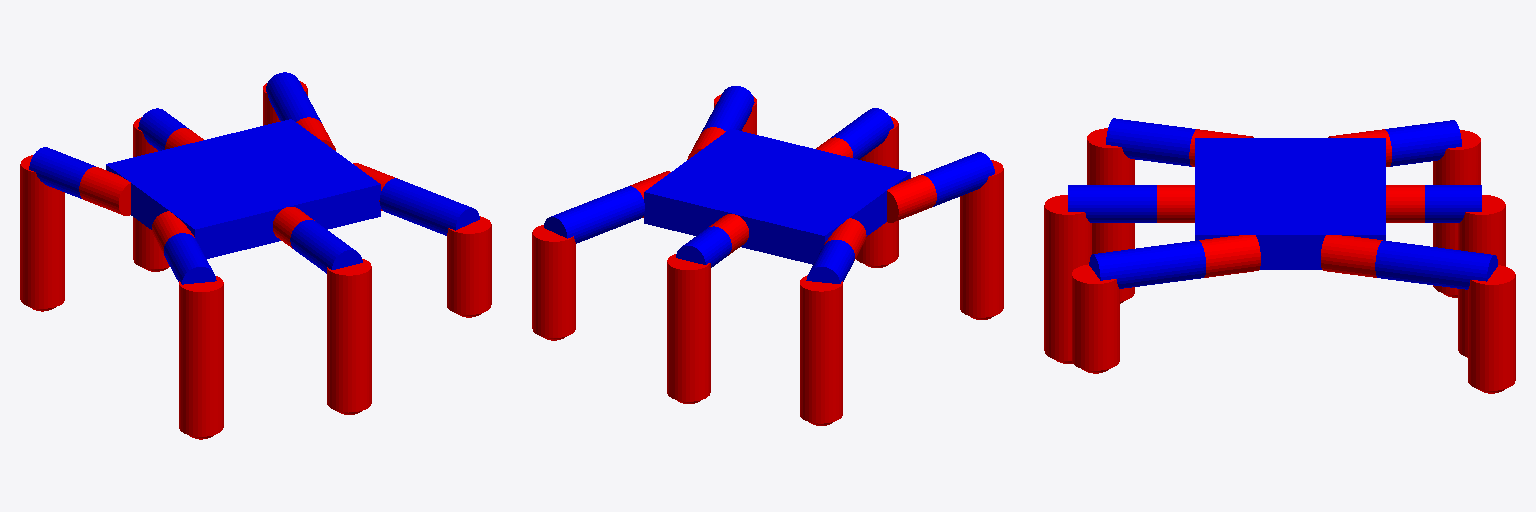
--- Facts derived from the render (not from the file) ---
The picture shows the robot from 3 angles, left to right: view 1: azimuth 30°, elevation 25°; view 2: azimuth 150°, elevation 25°; view 3: azimuth 270°, elevation 25°; orthographic projection.
Robot: pexod — 19 links, 18 joints (18 revolute); root link base_link; default pose: all joints at 0.
Links seen in each view (by area): view 1: base_link, leg_5_3, leg_4_3, leg_0_3, leg_3_3, leg_3_2, leg_4_2, leg_0_2, leg_0_1, leg_5_2, leg_2_2, leg_1_3 (+3 smaller); view 2: base_link, leg_1_3, leg_0_3, leg_5_3, leg_2_3, leg_2_2, leg_4_3, leg_5_2, leg_5_1, leg_4_2, leg_3_2, leg_0_2 (+3 smaller); view 3: base_link, leg_2_3, leg_4_3, leg_3_3, leg_2_2, leg_3_2, leg_5_3, leg_4_2, leg_1_3, leg_5_2, leg_0_3, leg_0_2 (+5 smaller).
Boxes of the visible links, left/top/right/bottom form: base_link: left=106, top=119, right=380, bottom=258; leg_5_3: left=179, top=276, right=223, bottom=439; leg_4_3: left=327, top=259, right=371, bottom=414; leg_0_3: left=20, top=155, right=64, bottom=311; leg_3_3: left=447, top=216, right=491, bottom=317; leg_3_2: left=380, top=178, right=479, bottom=235; leg_4_2: left=290, top=220, right=362, bottom=273; leg_0_2: left=29, top=147, right=95, bottom=198; leg_0_1: left=79, top=167, right=130, bottom=215; leg_5_2: left=164, top=233, right=216, bottom=284; leg_2_2: left=266, top=72, right=321, bottom=122; leg_1_3: left=133, top=117, right=169, bottom=271; base_link: left=644, top=129, right=910, bottom=264; leg_1_3: left=667, top=254, right=710, bottom=403; leg_0_3: left=800, top=275, right=842, bottom=425; leg_5_3: left=960, top=160, right=1003, bottom=319; leg_2_3: left=532, top=225, right=575, bottom=340; leg_2_2: left=544, top=186, right=644, bottom=243; leg_4_3: left=856, top=116, right=898, bottom=267; leg_5_2: left=921, top=152, right=994, bottom=206; leg_5_1: left=887, top=175, right=936, bottom=222; leg_4_2: left=831, top=108, right=893, bottom=159; leg_3_2: left=701, top=86, right=754, bottom=132; leg_0_2: left=806, top=240, right=854, bottom=283; base_link: left=1195, top=138, right=1385, bottom=269; leg_2_3: left=1468, top=265, right=1515, bottom=393; leg_4_3: left=1044, top=195, right=1091, bottom=363; leg_3_3: left=1072, top=264, right=1119, bottom=373; leg_2_2: left=1375, top=240, right=1497, bottom=289; leg_3_2: left=1089, top=240, right=1205, bottom=288; leg_5_3: left=1087, top=128, right=1134, bottom=303; leg_4_2: left=1068, top=185, right=1156, bottom=222; leg_1_3: left=1458, top=195, right=1505, bottom=357; leg_5_2: left=1106, top=118, right=1195, bottom=166; leg_0_3: left=1433, top=130, right=1480, bottom=297; leg_0_2: left=1385, top=120, right=1461, bottom=166.
Bounding box of the posed robot: 0.3883 × 0.4931 × 0.2109 m (x, y, z).
Geometry: primitives only (box / cylinder / sphere), no mesh files.

The robot description file, URDF, robot "pexod":
<?xml version="1.0" ?>
<!-- =================================================================================== -->
<!-- |    This document was autogenerated by xacro from pexod.xacro                    | -->
<!-- |    EDITING THIS FILE BY HAND IS NOT RECOMMENDED                                 | -->
<!-- =================================================================================== -->
<robot name="pexod" xmlns:xacro="http://www.ros.org/wiki/xacro">
  <!-- <xacro:include filename="$(find pexod_description)/urdf/pexod_control.xacro" /> -->
  <!-- MATERIALS -->
  <material name="Blue">
    <color rgba="0 0 1 1"/>
  </material>
  <material name="Red">
    <color rgba="1 0 0 1"/>
  </material>
  <material name="Green">
    <color rgba="0 1 0 1"/>
  </material>
  <material name="Yellow">
    <color rgba="1 1 0 1"/>
  </material>
  <material name="LightGrey">
    <color rgba="0.6 0.6 0.6 1.0"/>
  </material>
  <!-- END OF MATERIALS -->
  <!-- XACRO MACROS FOR VISUALS AND COLLISIONS -->
  <!-- END OF XACRO MACROS -->
  <!-- TORSO -->
  <link name="base_link">
    <visual>
      <origin rpy="0 0 0" xyz="0 0 0"/>
      <geometry>
        <box size="0.24 0.2 0.04"/>
      </geometry>
      <material name="Blue"/>
    </visual>
    <collision>
      <origin rpy="0 0 0" xyz="0 0 0"/>
      <geometry>
        <box size="0.24 0.2 0.04"/>
      </geometry>
    </collision>
    <inertial>
      <!-- CENTER OF MASS -->
      <origin rpy="0 0 0" xyz="0 0 0"/>
      <mass value="1.031"/>
      <!-- box inertia: 1/12*m(y^2+z^2), ... -->
      <inertia ixx="0.00357413333333" ixy="0" ixz="0" iyy="0.00508626666667" iyz="0" izz="0.00838546666667"/>
    </inertial>
  </link>
  <!-- XACRO MACRO FOR LEGS LINKS/JOINTS -->
  <!-- END OF LEG LINKS/JOINTS -->
  <joint name="body_leg_2" type="revolute">
    <parent link="base_link"/>
    <child link="leg_2_1"/>
    <limit effort="30.0" lower="-1.57079632679" upper="1.57079632679" velocity="7.0"/>
    <origin rpy="0 0 -0.3" xyz="0.11 0.04 0"/>
    <!-- <xacro:if value="${index == 5 or index == 4 or index == 3}">
                <axis xyz="0 0 1"/>
            </xacro:if>
            <xacro:if value="${index == 2 or index == 1 or index == 0}"> -->
    <axis xyz="0 0 1"/>
    <!-- </xacro:if> -->
    <dynamics damping="0.0"/>
  </joint>
  <link name="leg_2_1">
    <visual>
      <origin rpy="1.57079632679 0 0" xyz="0.01 0.03 0"/>
      <geometry>
        <cylinder length="0.06" radius="0.02"/>
      </geometry>
      <material name="Red"/>
    </visual>
    <collision>
      <origin rpy="1.57079632679 0 0" xyz="0.01 0.03 0"/>
      <geometry>
        <box size="0.02 0.02 0.06"/>
      </geometry>
    </collision>
    <inertial>
      <!-- CENTER OF MASS -->
      <origin rpy="1.57079632679 0 0" xyz="0.01 0.03 0"/>
      <mass value="0.02"/>
      <!-- box inertia: 1/12*m(y^2+z^2), ... -->
      <inertia ixx="6.66666666667e-06" ixy="0" ixz="0" iyy="6.66666666667e-06" iyz="0" izz="1.33333333333e-06"/>
    </inertial>
  </link>
  <joint name="leg_2_1_2" type="revolute">
    <parent link="leg_2_1"/>
    <child link="leg_2_2"/>
    <limit effort="30.0" lower="-0.78539816339" upper="0.78539816339" velocity="7.0"/>
    <origin rpy="0 0 0" xyz="0 0.06 0"/>
    <axis xyz="1 0 0"/>
    <dynamics damping="0.0"/>
  </joint>
  <link name="leg_2_2">
    <visual>
      <origin rpy="1.57079632679 0 0" xyz="0.01 0.061084963955 0"/>
      <geometry>
        <cylinder length="0.12216992791" radius="0.02"/>
      </geometry>
      <material name="Blue"/>
    </visual>
    <collision>
      <origin rpy="1.57079632679 0 0" xyz="0.01 0.061084963955 0"/>
      <geometry>
        <box size="0.02 0.02 0.12216992791"/>
      </geometry>
    </collision>
    <inertial>
      <!-- CENTER OF MASS -->
      <origin rpy="1.57079632679 0 0" xyz="0.01 0.061084963955 0"/>
      <mass value="0.184"/>
      <!-- box inertia: 1/12*m(y^2+z^2), ... -->
      <inertia ixx="0.000234990866378" ixy="0" ixz="0" iyy="0.000234990866378" iyz="0" izz="1.22666666667e-05"/>
    </inertial>
  </link>
  <joint name="leg_2_2_3" type="revolute">
    <parent link="leg_2_2"/>
    <child link="leg_2_3"/>
    <limit effort="30.0" lower="-0.78539816339" upper="0.78539816339" velocity="7.0"/>
    <origin rpy="-1.57079632679 0 0" xyz="0 0.12216992791 0"/>
    <axis xyz="-1 0 0"/>
    <dynamics damping="0.0"/>
  </joint>
  <link name="leg_2_3">
    <visual>
      <origin rpy="1.57079632679 0 0" xyz="0.0125 0.0611599524335 0"/>
      <geometry>
        <cylinder length="0.122319904867" radius="0.025"/>
      </geometry>
      <material name="Red"/>
    </visual>
    <visual>
      <origin rpy="1.57079632679 0 0" xyz="0.0125 0.109819904867 0"/>
      <geometry>
        <sphere radius="0.025"/>
      </geometry>
      <material name="Red"/>
    </visual>
    <collision>
      <origin rpy="1.57079632679 0 0" xyz="0.0125 0.0611599524335 0"/>
      <geometry>
        <box size="0.025 0.025 0.122319904867"/>
      </geometry>
    </collision>
    <collision>
      <origin rpy="1.57079632679 0 0" xyz="0.0125 0.109819904867 0"/>
      <geometry>
        <sphere radius="0.025"/>
      </geometry>
      <material name="Red"/>
    </collision>
    <inertial>
      <!-- CENTER OF MASS -->
      <origin rpy="1.57079632679 0 0" xyz="0.0125 0.0611599524335 0"/>
      <mass value="0.04"/>
      <!-- box inertia: 1/12*m(y^2+z^2), ... -->
      <inertia ixx="5.19571970889e-05" ixy="0" ixz="0" iyy="5.19571970889e-05" iyz="0" izz="4.16666666667e-06"/>
    </inertial>
  </link>
  <joint name="body_leg_3" type="revolute">
    <parent link="base_link"/>
    <child link="leg_3_1"/>
    <limit effort="30.0" lower="-1.57079632679" upper="1.57079632679" velocity="7.0"/>
    <origin rpy="0 0 0.3" xyz="0.11 -0.04 0"/>
    <!-- <xacro:if value="${index == 5 or index == 4 or index == 3}">
                <axis xyz="0 0 1"/>
            </xacro:if>
            <xacro:if value="${index == 2 or index == 1 or index == 0}"> -->
    <axis xyz="0 0 1"/>
    <!-- </xacro:if> -->
    <dynamics damping="0.0"/>
  </joint>
  <link name="leg_3_1">
    <visual>
      <origin rpy="1.57079632679 0 0" xyz="0.01 -0.03 0"/>
      <geometry>
        <cylinder length="0.06" radius="0.02"/>
      </geometry>
      <material name="Red"/>
    </visual>
    <collision>
      <origin rpy="1.57079632679 0 0" xyz="0.01 -0.03 0"/>
      <geometry>
        <box size="0.02 0.02 0.06"/>
      </geometry>
    </collision>
    <inertial>
      <!-- CENTER OF MASS -->
      <origin rpy="1.57079632679 0 0" xyz="0.01 -0.03 0"/>
      <mass value="0.02"/>
      <!-- box inertia: 1/12*m(y^2+z^2), ... -->
      <inertia ixx="6.66666666667e-06" ixy="0" ixz="0" iyy="6.66666666667e-06" iyz="0" izz="1.33333333333e-06"/>
    </inertial>
  </link>
  <joint name="leg_3_1_2" type="revolute">
    <parent link="leg_3_1"/>
    <child link="leg_3_2"/>
    <limit effort="30.0" lower="-0.78539816339" upper="0.78539816339" velocity="7.0"/>
    <origin rpy="0 0 0" xyz="0 -0.06 0"/>
    <axis xyz="-1 0 0"/>
    <dynamics damping="0.0"/>
  </joint>
  <link name="leg_3_2">
    <visual>
      <origin rpy="1.57079632679 0 0" xyz="0.01 -0.0578729319625 0"/>
      <geometry>
        <cylinder length="0.115745863925" radius="0.02"/>
      </geometry>
      <material name="Blue"/>
    </visual>
    <collision>
      <origin rpy="1.57079632679 0 0" xyz="0.01 -0.0578729319625 0"/>
      <geometry>
        <box size="0.02 0.02 0.115745863925"/>
      </geometry>
    </collision>
    <inertial>
      <!-- CENTER OF MASS -->
      <origin rpy="1.57079632679 0 0" xyz="0.01 -0.0578729319625 0"/>
      <mass value="0.184"/>
      <!-- box inertia: 1/12*m(y^2+z^2), ... -->
      <inertia ixx="0.000211555610241" ixy="0" ixz="0" iyy="0.000211555610241" iyz="0" izz="1.22666666667e-05"/>
    </inertial>
  </link>
  <joint name="leg_3_2_3" type="revolute">
    <parent link="leg_3_2"/>
    <child link="leg_3_3"/>
    <limit effort="30.0" lower="-0.78539816339" upper="0.78539816339" velocity="7.0"/>
    <origin rpy="1.57079632679 0 0" xyz="0 -0.115745863925 0"/>
    <axis xyz="1 0 0"/>
    <dynamics damping="0.0"/>
  </joint>
  <link name="leg_3_3">
    <visual>
      <origin rpy="1.57079632679 0 0" xyz="0.0125 -0.050032229175 0"/>
      <geometry>
        <cylinder length="0.10006445835" radius="0.025"/>
      </geometry>
      <material name="Red"/>
    </visual>
    <visual>
      <origin rpy="1.57079632679 0 0" xyz="0.0125 -0.08756445835 0"/>
      <geometry>
        <sphere radius="0.025"/>
      </geometry>
      <material name="Red"/>
    </visual>
    <collision>
      <origin rpy="1.57079632679 0 0" xyz="0.0125 -0.050032229175 0"/>
      <geometry>
        <box size="0.025 0.025 0.10006445835"/>
      </geometry>
    </collision>
    <collision>
      <origin rpy="1.57079632679 0 0" xyz="0.0125 -0.08756445835 0"/>
      <geometry>
        <sphere radius="0.025"/>
      </geometry>
      <material name="Red"/>
    </collision>
    <inertial>
      <!-- CENTER OF MASS -->
      <origin rpy="1.57079632679 0 0" xyz="0.0125 -0.050032229175 0"/>
      <mass value="0.04"/>
      <!-- box inertia: 1/12*m(y^2+z^2), ... -->
      <inertia ixx="3.54596527496e-05" ixy="0" ixz="0" iyy="3.54596527496e-05" iyz="0" izz="4.16666666667e-06"/>
    </inertial>
  </link>
  <joint name="body_leg_0" type="revolute">
    <parent link="base_link"/>
    <child link="leg_0_1"/>
    <limit effort="30.0" lower="-1.57079632679" upper="1.57079632679" velocity="7.0"/>
    <origin rpy="0 0 0.3" xyz="-0.13 0.04 0"/>
    <!-- <xacro:if value="${index == 5 or index == 4 or index == 3}">
                <axis xyz="0 0 1"/>
            </xacro:if>
            <xacro:if value="${index == 2 or index == 1 or index == 0}"> -->
    <axis xyz="0 0 1"/>
    <!-- </xacro:if> -->
    <dynamics damping="0.0"/>
  </joint>
  <link name="leg_0_1">
    <visual>
      <origin rpy="1.57079632679 0 0" xyz="0.01 0.03 0"/>
      <geometry>
        <cylinder length="0.06" radius="0.02"/>
      </geometry>
      <material name="Red"/>
    </visual>
    <collision>
      <origin rpy="1.57079632679 0 0" xyz="0.01 0.03 0"/>
      <geometry>
        <box size="0.02 0.02 0.06"/>
      </geometry>
    </collision>
    <inertial>
      <!-- CENTER OF MASS -->
      <origin rpy="1.57079632679 0 0" xyz="0.01 0.03 0"/>
      <mass value="0.02"/>
      <!-- box inertia: 1/12*m(y^2+z^2), ... -->
      <inertia ixx="6.66666666667e-06" ixy="0" ixz="0" iyy="6.66666666667e-06" iyz="0" izz="1.33333333333e-06"/>
    </inertial>
  </link>
  <joint name="leg_0_1_2" type="revolute">
    <parent link="leg_0_1"/>
    <child link="leg_0_2"/>
    <limit effort="30.0" lower="-0.78539816339" upper="0.78539816339" velocity="7.0"/>
    <origin rpy="0 0 0" xyz="0 0.06 0"/>
    <axis xyz="1 0 0"/>
    <dynamics damping="0.0"/>
  </joint>
  <link name="leg_0_2">
    <visual>
      <origin rpy="1.57079632679 0 0" xyz="0.01 0.038203366052 0"/>
      <geometry>
        <cylinder length="0.0764067321041" radius="0.02"/>
      </geometry>
      <material name="Blue"/>
    </visual>
    <collision>
      <origin rpy="1.57079632679 0 0" xyz="0.01 0.038203366052 0"/>
      <geometry>
        <box size="0.02 0.02 0.0764067321041"/>
      </geometry>
    </collision>
    <inertial>
      <!-- CENTER OF MASS -->
      <origin rpy="1.57079632679 0 0" xyz="0.01 0.038203366052 0"/>
      <mass value="0.184"/>
      <!-- box inertia: 1/12*m(y^2+z^2), ... -->
      <inertia ixx="9.56491602327e-05" ixy="0" ixz="0" iyy="9.56491602327e-05" iyz="0" izz="1.22666666667e-05"/>
    </inertial>
  </link>
  <joint name="leg_0_2_3" type="revolute">
    <parent link="leg_0_2"/>
    <child link="leg_0_3"/>
    <limit effort="30.0" lower="-0.78539816339" upper="0.78539816339" velocity="7.0"/>
    <origin rpy="-1.57079632679 0 0" xyz="0 0.0764067321041 0"/>
    <axis xyz="-1 0 0"/>
    <dynamics damping="0.0"/>
  </joint>
  <link name="leg_0_3">
    <visual>
      <origin rpy="1.57079632679 0 0" xyz="0.0125 0.083878539368 0"/>
      <geometry>
        <cylinder length="0.167757078736" radius="0.025"/>
      </geometry>
      <material name="Red"/>
    </visual>
    <visual>
      <origin rpy="1.57079632679 0 0" xyz="0.0125 0.155257078736 0"/>
      <geometry>
        <sphere radius="0.025"/>
      </geometry>
      <material name="Red"/>
    </visual>
    <collision>
      <origin rpy="1.57079632679 0 0" xyz="0.0125 0.083878539368 0"/>
      <geometry>
        <box size="0.025 0.025 0.167757078736"/>
      </geometry>
    </collision>
    <collision>
      <origin rpy="1.57079632679 0 0" xyz="0.0125 0.155257078736 0"/>
      <geometry>
        <sphere radius="0.025"/>
      </geometry>
      <material name="Red"/>
    </collision>
    <inertial>
      <!-- CENTER OF MASS -->
      <origin rpy="1.57079632679 0 0" xyz="0.0125 0.083878539368 0"/>
      <mass value="0.04"/>
      <!-- box inertia: 1/12*m(y^2+z^2), ... -->
      <inertia ixx="9.58914582201e-05" ixy="0" ixz="0" iyy="9.58914582201e-05" iyz="0" izz="4.16666666667e-06"/>
    </inertial>
  </link>
  <joint name="body_leg_5" type="revolute">
    <parent link="base_link"/>
    <child link="leg_5_1"/>
    <limit effort="30.0" lower="-1.57079632679" upper="1.57079632679" velocity="7.0"/>
    <origin rpy="0 0 -0.3" xyz="-0.13 -0.04 0"/>
    <!-- <xacro:if value="${index == 5 or index == 4 or index == 3}">
                <axis xyz="0 0 1"/>
            </xacro:if>
            <xacro:if value="${index == 2 or index == 1 or index == 0}"> -->
    <axis xyz="0 0 1"/>
    <!-- </xacro:if> -->
    <dynamics damping="0.0"/>
  </joint>
  <link name="leg_5_1">
    <visual>
      <origin rpy="1.57079632679 0 0" xyz="0.01 -0.03 0"/>
      <geometry>
        <cylinder length="0.06" radius="0.02"/>
      </geometry>
      <material name="Red"/>
    </visual>
    <collision>
      <origin rpy="1.57079632679 0 0" xyz="0.01 -0.03 0"/>
      <geometry>
        <box size="0.02 0.02 0.06"/>
      </geometry>
    </collision>
    <inertial>
      <!-- CENTER OF MASS -->
      <origin rpy="1.57079632679 0 0" xyz="0.01 -0.03 0"/>
      <mass value="0.02"/>
      <!-- box inertia: 1/12*m(y^2+z^2), ... -->
      <inertia ixx="6.66666666667e-06" ixy="0" ixz="0" iyy="6.66666666667e-06" iyz="0" izz="1.33333333333e-06"/>
    </inertial>
  </link>
  <joint name="leg_5_1_2" type="revolute">
    <parent link="leg_5_1"/>
    <child link="leg_5_2"/>
    <limit effort="30.0" lower="-0.78539816339" upper="0.78539816339" velocity="7.0"/>
    <origin rpy="0 0 0" xyz="0 -0.06 0"/>
    <axis xyz="-1 0 0"/>
    <dynamics damping="0.0"/>
  </joint>
  <link name="leg_5_2">
    <visual>
      <origin rpy="1.57079632679 0 0" xyz="0.01 -0.0456595955553 0"/>
      <geometry>
        <cylinder length="0.0913191911107" radius="0.02"/>
      </geometry>
      <material name="Blue"/>
    </visual>
    <collision>
      <origin rpy="1.57079632679 0 0" xyz="0.01 -0.0456595955553 0"/>
      <geometry>
        <box size="0.02 0.02 0.0913191911107"/>
      </geometry>
    </collision>
    <inertial>
      <!-- CENTER OF MASS -->
      <origin rpy="1.57079632679 0 0" xyz="0.01 -0.0456595955553 0"/>
      <mass value="0.184"/>
      <!-- box inertia: 1/12*m(y^2+z^2), ... -->
      <inertia ixx="0.000134000984865" ixy="0" ixz="0" iyy="0.000134000984865" iyz="0" izz="1.22666666667e-05"/>
    </inertial>
  </link>
  <joint name="leg_5_2_3" type="revolute">
    <parent link="leg_5_2"/>
    <child link="leg_5_3"/>
    <limit effort="30.0" lower="-0.78539816339" upper="0.78539816339" velocity="7.0"/>
    <origin rpy="1.57079632679 0 0" xyz="0 -0.0913191911107 0"/>
    <axis xyz="1 0 0"/>
    <dynamics damping="0.0"/>
  </joint>
  <link name="leg_5_3">
    <visual>
      <origin rpy="1.57079632679 0 0" xyz="0.0125 -0.0892094211355 0"/>
      <geometry>
        <cylinder length="0.178418842271" radius="0.025"/>
      </geometry>
      <material name="Red"/>
    </visual>
    <visual>
      <origin rpy="1.57079632679 0 0" xyz="0.0125 -0.165918842271 0"/>
      <geometry>
        <sphere radius="0.025"/>
      </geometry>
      <material name="Red"/>
    </visual>
    <collision>
      <origin rpy="1.57079632679 0 0" xyz="0.0125 -0.0892094211355 0"/>
      <geometry>
        <box size="0.025 0.025 0.178418842271"/>
      </geometry>
    </collision>
    <collision>
      <origin rpy="1.57079632679 0 0" xyz="0.0125 -0.165918842271 0"/>
      <geometry>
        <sphere radius="0.025"/>
      </geometry>
      <material name="Red"/>
    </collision>
    <inertial>
      <!-- CENTER OF MASS -->
      <origin rpy="1.57079632679 0 0" xyz="0.0125 -0.0892094211355 0"/>
      <mass value="0.04"/>
      <!-- box inertia: 1/12*m(y^2+z^2), ... -->
      <inertia ixx="0.000108194277591" ixy="0" ixz="0" iyy="0.000108194277591" iyz="0" izz="4.16666666667e-06"/>
    </inertial>
  </link>
  <joint name="body_leg_1" type="revolute">
    <parent link="base_link"/>
    <child link="leg_1_1"/>
    <limit effort="30.0" lower="-1.57079632679" upper="1.57079632679" velocity="7.0"/>
    <origin rpy="0 0 0" xyz="-0.01 0.08 0"/>
    <!-- <xacro:if value="${index == 5 or index == 4 or index == 3}">
                <axis xyz="0 0 1"/>
            </xacro:if>
            <xacro:if value="${index == 2 or index == 1 or index == 0}"> -->
    <axis xyz="0 0 1"/>
    <!-- </xacro:if> -->
    <dynamics damping="0.0"/>
  </joint>
  <link name="leg_1_1">
    <visual>
      <origin rpy="1.57079632679 0 0" xyz="0.01 0.03 0"/>
      <geometry>
        <cylinder length="0.06" radius="0.02"/>
      </geometry>
      <material name="Red"/>
    </visual>
    <collision>
      <origin rpy="1.57079632679 0 0" xyz="0.01 0.03 0"/>
      <geometry>
        <box size="0.02 0.02 0.06"/>
      </geometry>
    </collision>
    <inertial>
      <!-- CENTER OF MASS -->
      <origin rpy="1.57079632679 0 0" xyz="0.01 0.03 0"/>
      <mass value="0.02"/>
      <!-- box inertia: 1/12*m(y^2+z^2), ... -->
      <inertia ixx="6.66666666667e-06" ixy="0" ixz="0" iyy="6.66666666667e-06" iyz="0" izz="1.33333333333e-06"/>
    </inertial>
  </link>
  <joint name="leg_1_1_2" type="revolute">
    <parent link="leg_1_1"/>
    <child link="leg_1_2"/>
    <limit effort="30.0" lower="-0.78539816339" upper="0.78539816339" velocity="7.0"/>
    <origin rpy="0 0 0" xyz="0 0.06 0"/>
    <axis xyz="1 0 0"/>
    <dynamics damping="0.0"/>
  </joint>
  <link name="leg_1_2">
    <visual>
      <origin rpy="1.57079632679 0 0" xyz="0.01 0.0300365402848 0"/>
      <geometry>
        <cylinder length="0.0600730805696" radius="0.02"/>
      </geometry>
      <material name="Blue"/>
    </visual>
    <collision>
      <origin rpy="1.57079632679 0 0" xyz="0.01 0.0300365402848 0"/>
      <geometry>
        <box size="0.02 0.02 0.0600730805696"/>
      </geometry>
    </collision>
    <inertial>
      <!-- CENTER OF MASS -->
      <origin rpy="1.57079632679 0 0" xyz="0.01 0.0300365402848 0"/>
      <mass value="0.184"/>
      <!-- box inertia: 1/12*m(y^2+z^2), ... -->
      <inertia ixx="6.14678834732e-05" ixy="0" ixz="0" iyy="6.14678834732e-05" iyz="0" izz="1.22666666667e-05"/>
    </inertial>
  </link>
  <joint name="leg_1_2_3" type="revolute">
    <parent link="leg_1_2"/>
    <child link="leg_1_3"/>
    <limit effort="30.0" lower="-0.78539816339" upper="0.78539816339" velocity="7.0"/>
    <origin rpy="-1.57079632679 0 0" xyz="0 0.0600730805696 0"/>
    <axis xyz="-1 0 0"/>
    <dynamics damping="0.0"/>
  </joint>
  <link name="leg_1_3">
    <visual>
      <origin rpy="1.57079632679 0 0" xyz="0.0125 0.0834991812015 0"/>
      <geometry>
        <cylinder length="0.166998362403" radius="0.025"/>
      </geometry>
      <material name="Red"/>
    </visual>
    <visual>
      <origin rpy="1.57079632679 0 0" xyz="0.0125 0.154498362403 0"/>
      <geometry>
        <sphere radius="0.025"/>
      </geometry>
      <material name="Red"/>
    </visual>
    <collision>
      <origin rpy="1.57079632679 0 0" xyz="0.0125 0.0834991812015 0"/>
      <geometry>
        <box size="0.025 0.025 0.166998362403"/>
      </geometry>
    </collision>
    <collision>
      <origin rpy="1.57079632679 0 0" xyz="0.0125 0.154498362403 0"/>
      <geometry>
        <sphere radius="0.025"/>
      </geometry>
      <material name="Red"/>
    </collision>
    <inertial>
      <!-- CENTER OF MASS -->
      <origin rpy="1.57079632679 0 0" xyz="0.0125 0.0834991812015 0"/>
      <mass value="0.04"/>
      <!-- box inertia: 1/12*m(y^2+z^2), ... -->
      <inertia ixx="9.50448434843e-05" ixy="0" ixz="0" iyy="9.50448434843e-05" iyz="0" izz="4.16666666667e-06"/>
    </inertial>
  </link>
  <joint name="body_leg_4" type="revolute">
    <parent link="base_link"/>
    <child link="leg_4_1"/>
    <limit effort="30.0" lower="-1.57079632679" upper="1.57079632679" velocity="7.0"/>
    <origin rpy="0 0 0" xyz="-0.01 -0.08 0"/>
    <!-- <xacro:if value="${index == 5 or index == 4 or index == 3}">
                <axis xyz="0 0 1"/>
            </xacro:if>
            <xacro:if value="${index == 2 or index == 1 or index == 0}"> -->
    <axis xyz="0 0 1"/>
    <!-- </xacro:if> -->
    <dynamics damping="0.0"/>
  </joint>
  <link name="leg_4_1">
    <visual>
      <origin rpy="1.57079632679 0 0" xyz="0.01 -0.03 0"/>
      <geometry>
        <cylinder length="0.06" radius="0.02"/>
      </geometry>
      <material name="Red"/>
    </visual>
    <collision>
      <origin rpy="1.57079632679 0 0" xyz="0.01 -0.03 0"/>
      <geometry>
        <box size="0.02 0.02 0.06"/>
      </geometry>
    </collision>
    <inertial>
      <!-- CENTER OF MASS -->
      <origin rpy="1.57079632679 0 0" xyz="0.01 -0.03 0"/>
      <mass value="0.02"/>
      <!-- box inertia: 1/12*m(y^2+z^2), ... -->
      <inertia ixx="6.66666666667e-06" ixy="0" ixz="0" iyy="6.66666666667e-06" iyz="0" izz="1.33333333333e-06"/>
    </inertial>
  </link>
  <joint name="leg_4_1_2" type="revolute">
    <parent link="leg_4_1"/>
    <child link="leg_4_2"/>
    <limit effort="30.0" lower="-0.78539816339" upper="0.78539816339" velocity="7.0"/>
    <origin rpy="0 0 0" xyz="0 -0.06 0"/>
    <axis xyz="-1 0 0"/>
    <dynamics damping="0.0"/>
  </joint>
  <link name="leg_4_2">
    <visual>
      <origin rpy="1.57079632679 0 0" xyz="0.01 -0.0464194418929 0"/>
      <geometry>
        <cylinder length="0.0928388837859" radius="0.02"/>
      </geometry>
      <material name="Blue"/>
    </visual>
    <collision>
      <origin rpy="1.57079632679 0 0" xyz="0.01 -0.0464194418929 0"/>
      <geometry>
        <box size="0.02 0.02 0.0928388837859"/>
      </geometry>
    </collision>
    <inertial>
      <!-- CENTER OF MASS -->
      <origin rpy="1.57079632679 0 0" xyz="0.01 -0.0464194418929 0"/>
      <mass value="0.184"/>
      <!-- box inertia: 1/12*m(y^2+z^2), ... -->
      <inertia ixx="0.00013829222792" ixy="0" ixz="0" iyy="0.00013829222792" iyz="0" izz="1.22666666667e-05"/>
    </inertial>
  </link>
  <joint name="leg_4_2_3" type="revolute">
    <parent link="leg_4_2"/>
    <child link="leg_4_3"/>
    <limit effort="30.0" lower="-0.78539816339" upper="0.78539816339" velocity="7.0"/>
    <origin rpy="1.57079632679 0 0" xyz="0 -0.0928388837859 0"/>
    <axis xyz="1 0 0"/>
    <dynamics damping="0.0"/>
  </joint>
  <link name="leg_4_3">
    <visual>
      <origin rpy="1.57079632679 0 0" xyz="0.0125 -0.084474628252 0"/>
      <geometry>
        <cylinder length="0.168949256504" radius="0.025"/>
      </geometry>
      <material name="Red"/>
    </visual>
    <visual>
      <origin rpy="1.57079632679 0 0" xyz="0.0125 -0.156449256504 0"/>
      <geometry>
        <sphere radius="0.025"/>
      </geometry>
      <material name="Red"/>
    </visual>
    <collision>
      <origin rpy="1.57079632679 0 0" xyz="0.0125 -0.084474628252 0"/>
      <geometry>
        <box size="0.025 0.025 0.168949256504"/>
      </geometry>
    </collision>
    <collision>
      <origin rpy="1.57079632679 0 0" xyz="0.0125 -0.156449256504 0"/>
      <geometry>
        <sphere radius="0.025"/>
      </geometry>
      <material name="Red"/>
    </collision>
    <inertial>
      <!-- CENTER OF MASS -->
      <origin rpy="1.57079632679 0 0" xyz="0.0125 -0.084474628252 0"/>
      <mass value="0.04"/>
      <!-- box inertia: 1/12*m(y^2+z^2), ... -->
      <inertia ixx="9.72295042442e-05" ixy="0" ixz="0" iyy="9.72295042442e-05" iyz="0" izz="4.16666666667e-06"/>
    </inertial>
  </link>
  <!-- END OF LEG LINKS/JOINTS -->
</robot>
